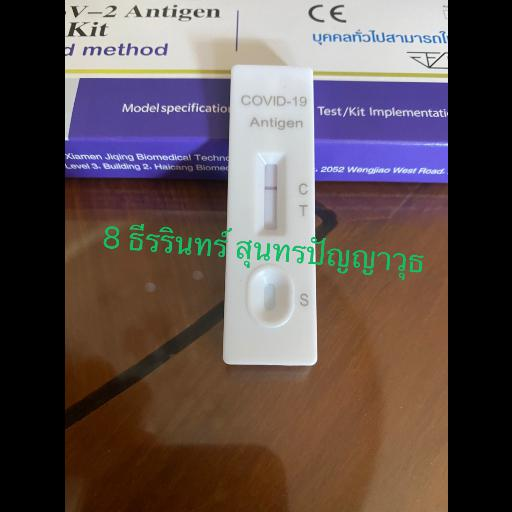Neg: (223, 63, 320, 367)
